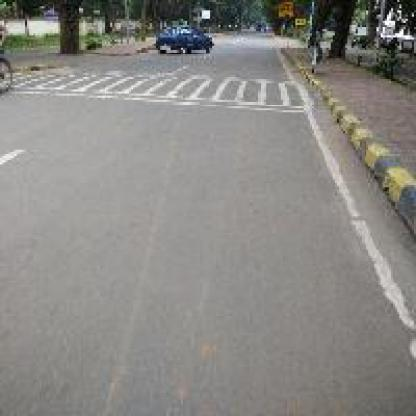Speed Bump: (15, 63, 314, 116)
